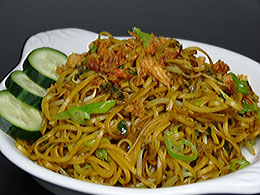Mie: (34, 24, 257, 189)
